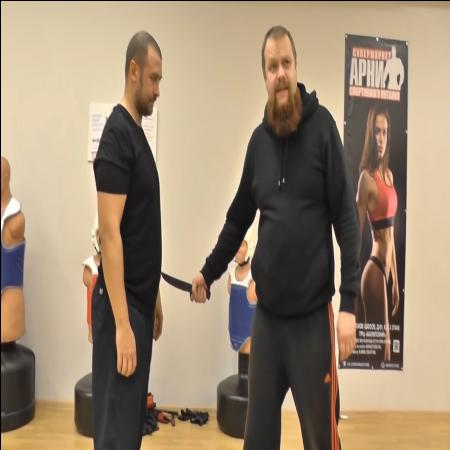long weapon: (160, 265, 212, 305)
